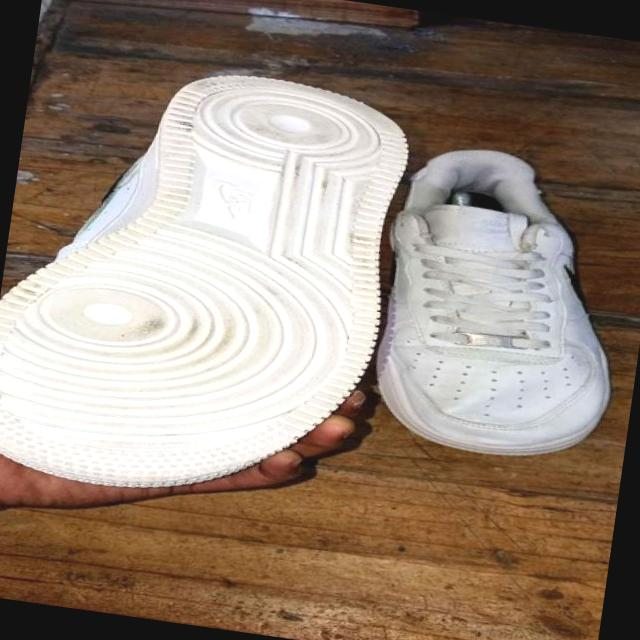nike_fake_airforce: (355, 131, 640, 470)
